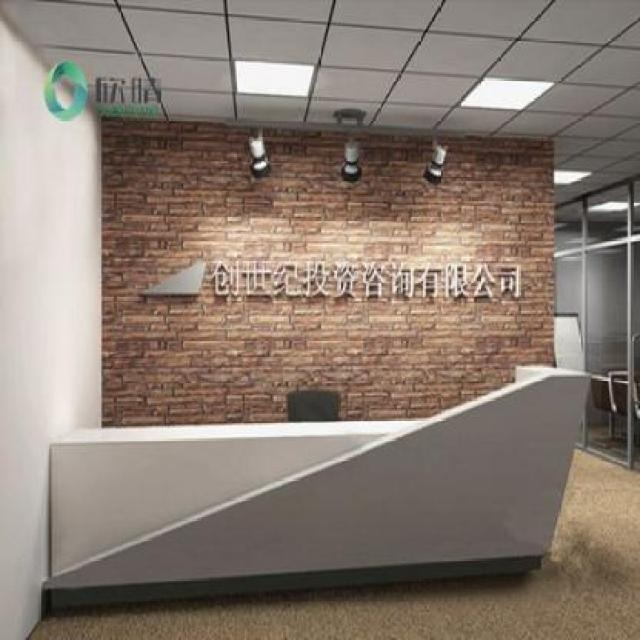frontdesk: (43, 358, 597, 617)
